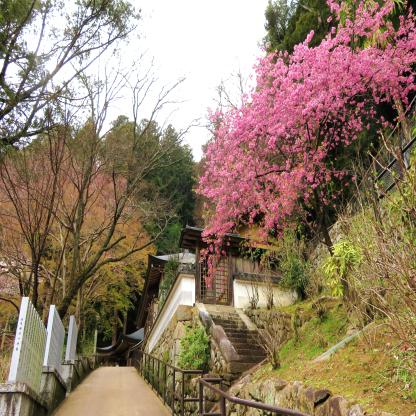KanhiSakura: (192, 0, 416, 293)
